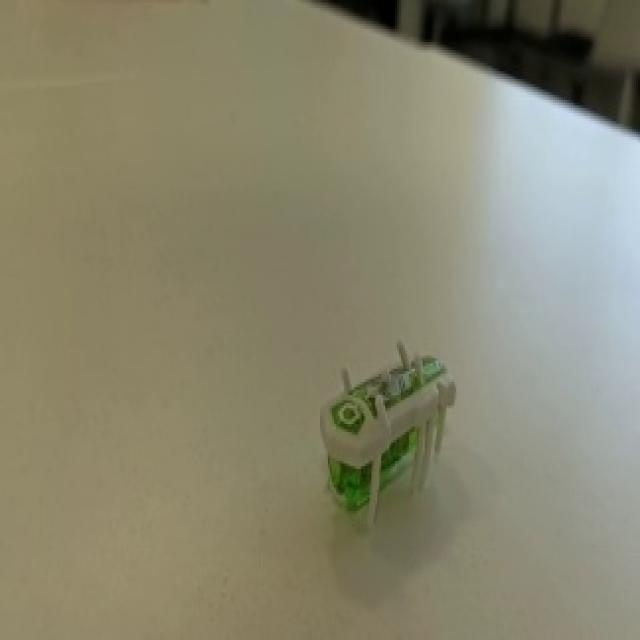4_NanoBug_Blanco: (267, 311, 509, 518)
